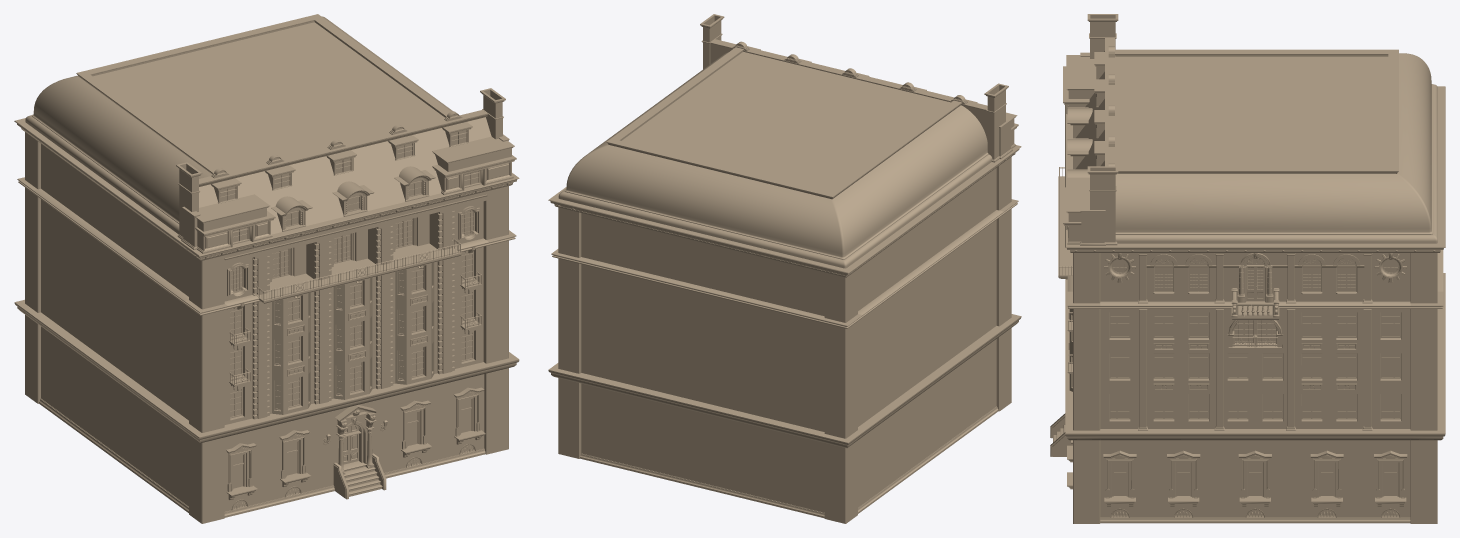
Rendered from Graceview Mansion.FBX.
3 views of the same model, side by side, from view 1: azimuth 30°, elevation 25°; view 2: azimuth 150°, elevation 25°; view 3: azimuth 270°, elevation 25° (orthographic). The views are drawn at different scales.
Visible parts, largest first — view 1: Roof, Wall_13, Large Column_1, Wall_11, Wall_7, Window Panes, Large Column_2, Small Ledge Roof, Med Ledge, Wall_8, Large Column Details, Large Ledge (+31 smaller); view 2: Wall_14, Roof, Wall_13, Large Column_1, Small Ledge Roof, Med Ledge, Large Ledge, Small Ledge, Building Edge Stone, Chimney, Med Corner Ledge, Large Corner Ledge (+1 smaller); view 3: Roof, Wall_15, Window Panes, Large Column_1, Wall_5, Wall_4, Small Ledge Roof, Med Ledge, Window Style_3, Large Ledge, Wall_6, Med Column_2 (+32 smaller).
Part boxes in pixels (x1,y1,x2,y2): Roof: (25, 16, 491, 234); Wall_13: (41, 144, 188, 506); Large Column_1: (25, 132, 508, 523); Wall_11: (224, 374, 484, 511); Wall_7: (269, 262, 437, 414); Window Panes: (220, 130, 478, 508); Large Column_2: (252, 208, 455, 418); Small Ledge Roof: (86, 18, 487, 186); Med Ledge: (31, 312, 489, 436); Wall_8: (224, 201, 483, 424); Large Column Details: (253, 211, 454, 419); Large Ledge: (31, 131, 489, 254); Wall_14: (581, 213, 824, 512); Roof: (558, 52, 992, 268); Wall_13: (858, 168, 996, 507); Large Column_1: (558, 157, 1011, 523); Small Ledge Roof: (616, 39, 987, 195); Med Ledge: (576, 326, 1005, 442); Large Ledge: (565, 157, 1005, 271); Small Ledge: (577, 210, 1003, 322); Building Edge Stone: (580, 406, 998, 518); Chimney: (700, 14, 1008, 159); Med Corner Ledge: (548, 314, 1021, 448); Large Corner Ledge: (548, 145, 1021, 277); Roof: (1075, 51, 1437, 243); Wall_15: (1100, 440, 1410, 517); Window Panes: (1110, 258, 1399, 516); Large Column_1: (1073, 253, 1437, 523); Wall_5: (1146, 309, 1364, 428); Wall_4: (1100, 309, 1410, 428); Small Ledge Roof: (1105, 38, 1398, 173); Med Ledge: (1065, 286, 1445, 440); Window Style_3: (1109, 312, 1400, 419); Large Ledge: (1065, 101, 1445, 252); Wall_6: (1223, 309, 1287, 428); Med Column_2: (1138, 309, 1372, 430).
Bounding box in the file's own units: 2727 × 2617 × 2650.
